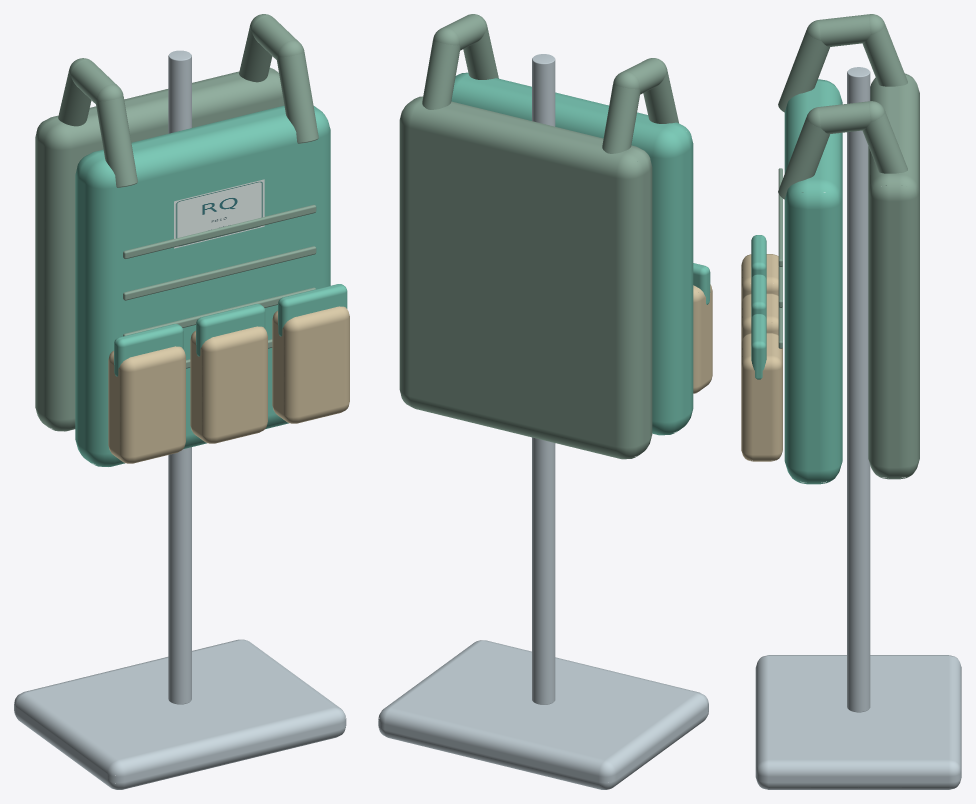
The model's file is protective_vest.glb.
The picture shows the model from 3 angles, left to right: view 1: azimuth 30°, elevation 25°; view 2: azimuth 150°, elevation 25°; view 3: azimuth 270°, elevation 25°; orthographic projection.
Parts seen in each view (by area): view 1: Vest_Front, Stand_Base, Vest_Back, Utility_Pouch_3, Utility_Pouch_2, Utility_Pouch, Support, Vest_Identifier, Shoulder_Strap_Tube2, Shoulder_Strap_Tube2_2, MOLLE_Webbing_3, MOLLE_Webbing_4 (+8 smaller); view 2: Vest_Back, Stand_Base, Vest_Front, Support, Utility_Pouch, Shoulder_Strap_Tube0, Shoulder_Strap_Tube0_2, Shoulder_Strap_Tube2, Shoulder_Strap_Tube2_2, Shoulder_Strap_Tube1, Shoulder_Strap_Tube1_2; view 3: Stand_Base, Vest_Front, Vest_Back, Support, Utility_Pouch_3, Shoulder_Strap_Tube2_2, Shoulder_Strap_Tube2, Shoulder_Strap_Tube0_2, Shoulder_Strap_Tube0, Shoulder_Strap_Tube1, Shoulder_Strap_Tube1_2, Utility_Pouch (+5 smaller).
Part boxes in pixels (<box>): Vest_Front: <box>75,105,330,466</box>; Stand_Base: <box>14,639,346,789</box>; Vest_Back: <box>35,67,284,431</box>; Utility_Pouch_3: <box>272,306,349,423</box>; Utility_Pouch_2: <box>190,326,267,443</box>; Utility_Pouch: <box>108,346,185,463</box>; Support: <box>168,50,191,704</box>; Vest_Identifier: <box>174,179,264,248</box>; Shoulder_Strap_Tube2: <box>96,96,137,187</box>; Shoulder_Strap_Tube2_2: <box>276,52,318,143</box>; MOLLE_Webbing_3: <box>123,246,316,300</box>; MOLLE_Webbing_4: <box>123,204,316,259</box>; Vest_Back: <box>399,96,652,459</box>; Stand_Base: <box>378,640,708,789</box>; Vest_Front: <box>451,72,693,435</box>; Support: <box>532,54,555,704</box>; Utility_Pouch: <box>693,284,712,393</box>; Shoulder_Strap_Tube0: <box>602,84,640,153</box>; Shoulder_Strap_Tube0_2: <box>422,40,460,109</box>; Shoulder_Strap_Tube2: <box>643,71,678,123</box>; Shoulder_Strap_Tube2_2: <box>463,27,498,79</box>; Shoulder_Strap_Tube1: <box>623,58,664,94</box>; Shoulder_Strap_Tube1_2: <box>442,14,484,50</box>; Stand_Base: <box>755,655,961,789</box>; Vest_Front: <box>784,79,842,484</box>; Vest_Back: <box>868,73,919,479</box>; Support: <box>847,67,870,712</box>; Utility_Pouch_3: <box>741,333,782,461</box>; Shoulder_Strap_Tube2_2: <box>778,117,829,199</box>; Shoulder_Strap_Tube2: <box>778,30,829,112</box>; Shoulder_Strap_Tube0_2: <box>862,111,907,185</box>; Shoulder_Strap_Tube0: <box>862,24,907,86</box>; Shoulder_Strap_Tube1: <box>819,14,870,46</box>; Shoulder_Strap_Tube1_2: <box>819,101,870,134</box>; Utility_Pouch: <box>741,254,778,303</box>.
Size of the model in its own units: 0.43 by 1.16 by 0.3425.
Materials: 5 (1 with a texture image).
